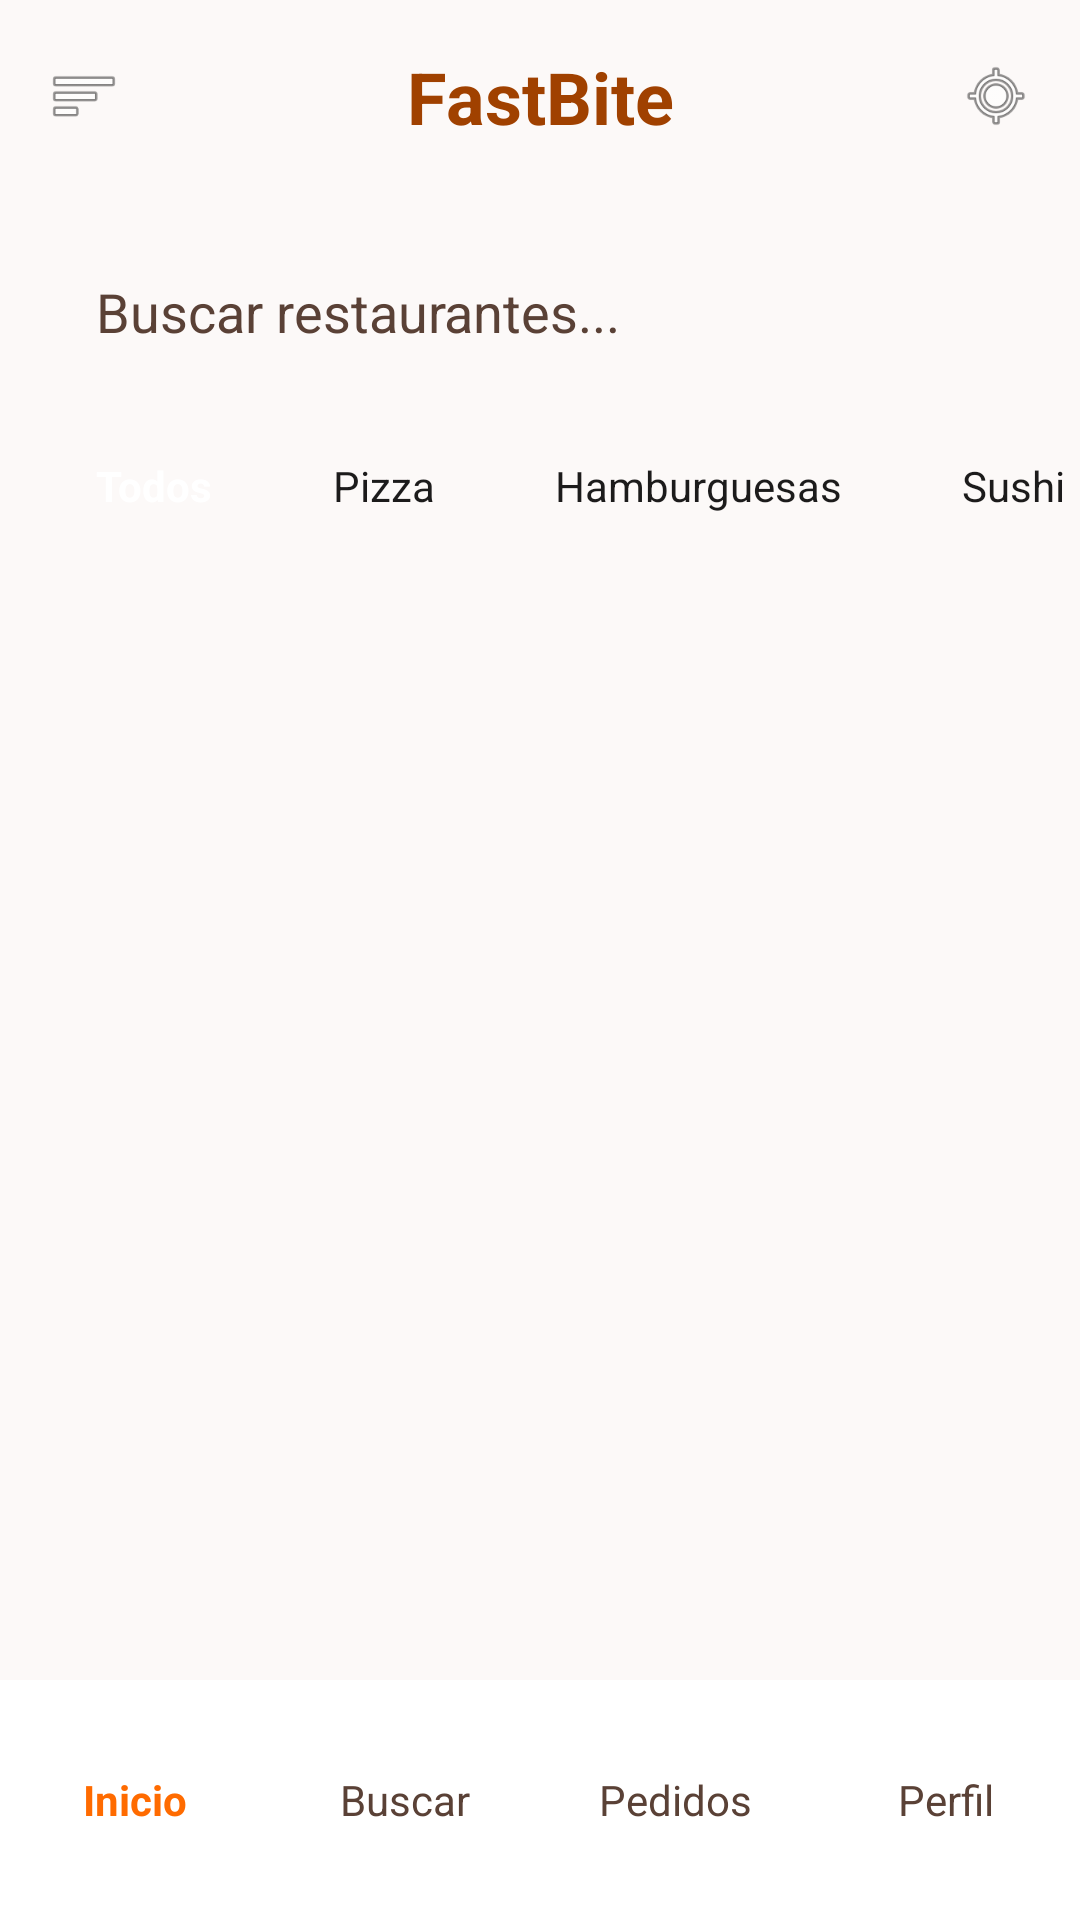

Icon click points for this 1080x1920 phone screenshot, format (x=x, y=y):
Menu: (x=84, y=96)
